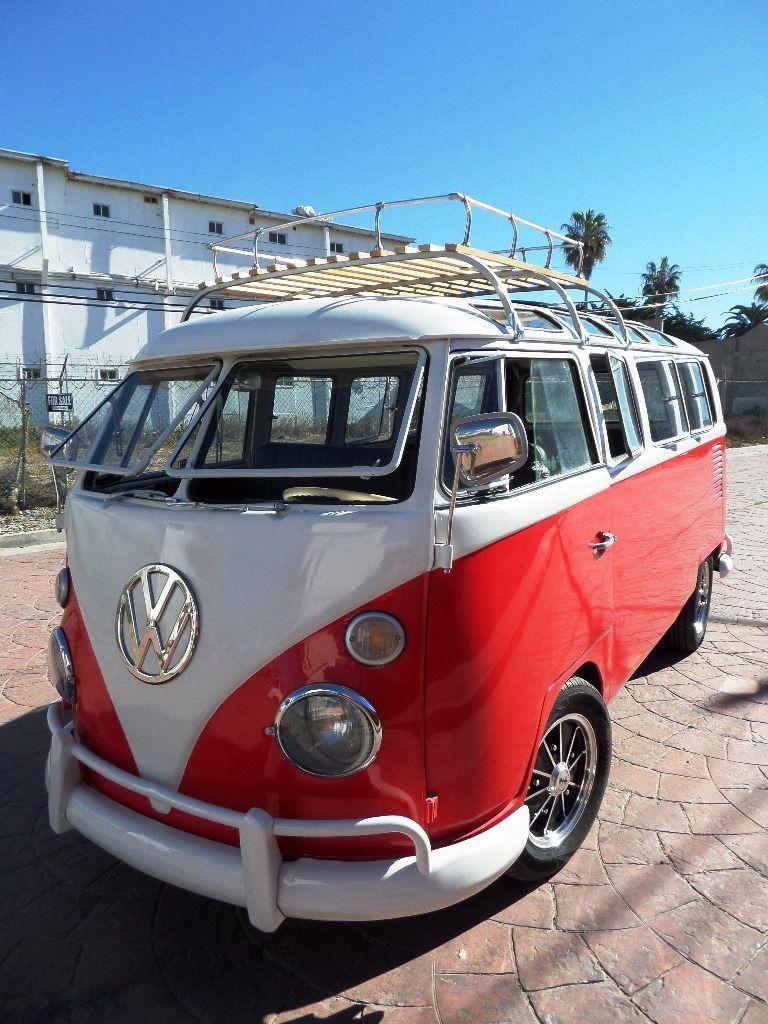Bus: (47, 266, 730, 940)
